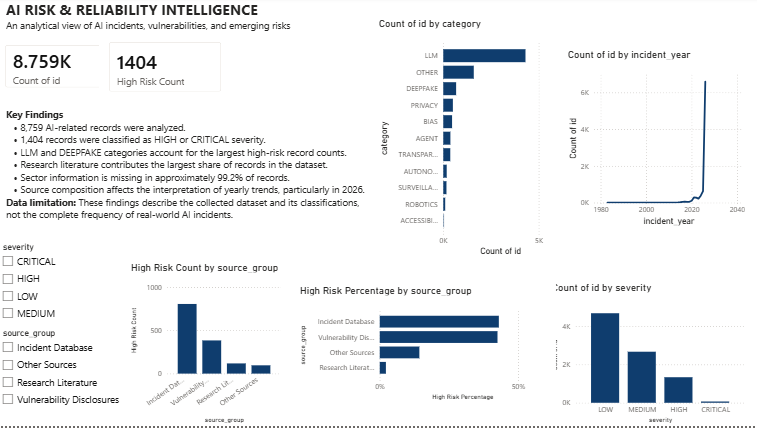

The page's visual inventory and layout, read from the dashboard file:
{"tool":"powerbi","page":{"name":"Page 1","canvas":[1280,720],"ordinal":0},"visuals":[{"type":"cardVisual","fields":{"Data":["CountNonNull(ai_incidents_classified.id)"]},"box":[0,63.8,206.6,105.8],"z":0},{"type":"cardVisual","fields":{"Data":["ai_incidents_classified.High Risk Count"]},"box":[174.7,58.8,222.9,117.1],"z":1000},{"type":"clusteredColumnChart","fields":{"Category":["ai_incidents_classified.severity"],"Y":["CountNonNull(ai_incidents_classified.id)"]},"box":[930.6,477.1,334.3,243.6],"z":2000},{"type":"clusteredBarChart","fields":{"Category":["ai_incidents_classified.category"],"Y":["CountNonNull(ai_incidents_classified.id)"]},"box":[640,33.6,317.5,406.5],"z":3000},{"type":"clusteredColumnChart","fields":{"Category":["ai_incidents_classified.source_group"],"Y":["ai_incidents_classified.High Risk Count"]},"box":[223.4,443.5,262,277.2],"z":4000},{"type":"clusteredBarChart","fields":{"Category":["ai_incidents_classified.source_group"],"Y":["ai_incidents_classified.High Risk Percentage"]},"box":[507.3,482.1,435.1,199.9],"z":5000},{"type":"lineChart","fields":{"Category":["ai_incidents_classified.incident_year"],"Y":["CountNonNull(ai_incidents_classified.id)"]},"box":[957.5,85.7,307.1,302.9],"z":6000},{"type":"slicer","fields":{"Values":["ai_incidents_classified.severity"]},"box":[0,406.5,174.7,151.2],"z":7000},{"type":"slicer","fields":{"Values":["ai_incidents_classified.source_group"]},"box":[0,551,223.4,149.5],"z":8000},{"type":"textbox","box":[12.9,0,494.3,65.7],"z":9000},{"type":"textbox","box":[13.4,181.4,626.6,206.6],"z":9001}]}

Visuals, with their boxes in screenshot pixels (x1, y1, x2, y2), scaled from the page's 1280x720 canvas onto the 757x434 screenshot:
cardVisual - CountNonNull(ai_incidents_classified.id): 0, 38, 122, 102
cardVisual - ai_incidents_classified.High Risk Count: 103, 35, 235, 106
clusteredColumnChart - ai_incidents_classified.severity x CountNonNull(ai_incidents_classified.id): 550, 288, 748, 433
clusteredBarChart - ai_incidents_classified.category x CountNonNull(ai_incidents_classified.id): 378, 20, 566, 265
clusteredColumnChart - ai_incidents_classified.source_group x ai_incidents_classified.High Risk Count: 132, 267, 287, 433
clusteredBarChart - ai_incidents_classified.source_group x ai_incidents_classified.High Risk Percentage: 300, 291, 557, 411
lineChart - ai_incidents_classified.incident_year x CountNonNull(ai_incidents_classified.id): 566, 52, 748, 234
slicer - ai_incidents_classified.severity: 0, 245, 103, 336
slicer - ai_incidents_classified.source_group: 0, 332, 132, 422
textbox: 8, 0, 300, 40
textbox: 8, 109, 378, 234
